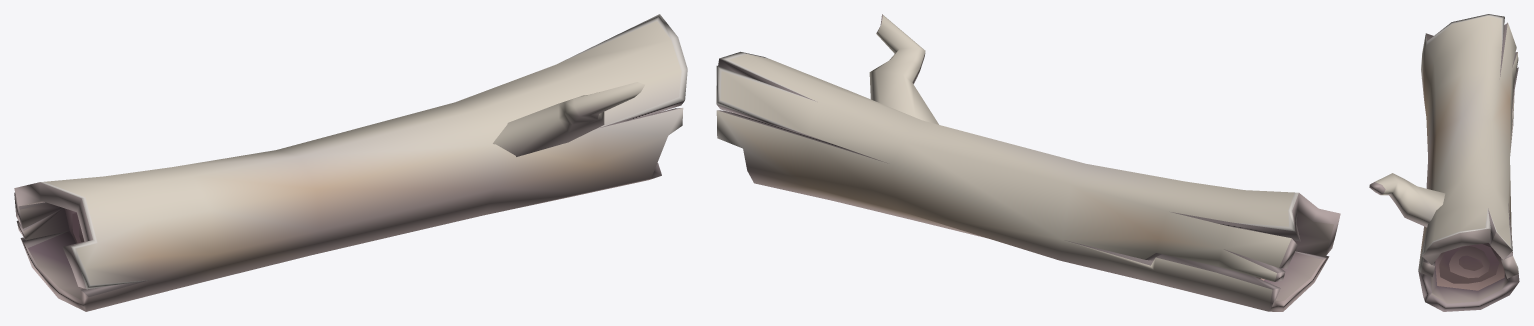
Rendered from Log.glb.
3 renders of one model, left to right at view 1: azimuth 30°, elevation 25°; view 2: azimuth 150°, elevation 25°; view 3: azimuth 270°, elevation 25°, orthographic. The views are drawn at different scales.
Parts seen in each view (by area): view 1: Log; view 2: Log; view 3: Log.
Part boxes in pixels (x1,y1,x2,y2): Log: (14,14,687,311); Log: (716,14,1340,311); Log: (1369,14,1519,311).
Size of the model in its own units: 2.65 by 0.5791 by 0.7227.
